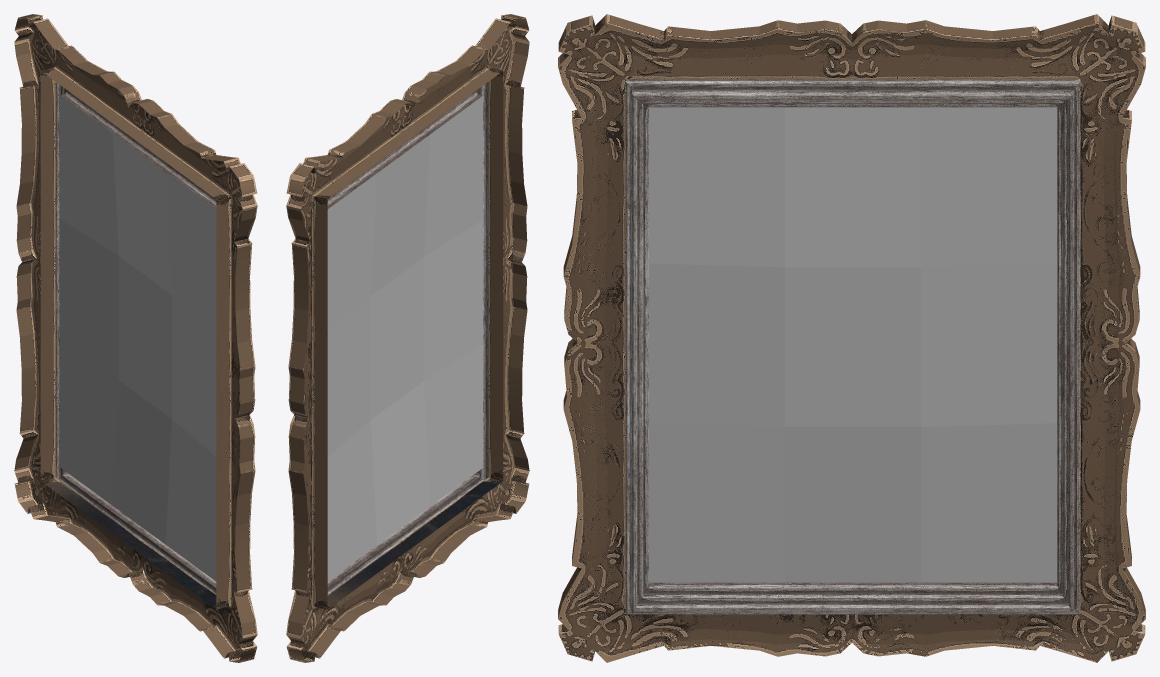
Rendered from PictureFence1.fbx.
The picture shows the model from 3 angles, left to right: view 1: azimuth 30°, elevation 25°; view 2: azimuth 150°, elevation 25°; view 3: azimuth 270°, elevation 25°; orthographic projection. The views are drawn at different scales.
Visible parts, largest first — view 1: g PictureFrame; view 2: g PictureFrame; view 3: g PictureFrame.
Boxes of the visible parts, left/top/right/bottom form: g PictureFrame: left=14, top=14, right=257, bottom=662; g PictureFrame: left=286, top=14, right=529, bottom=662; g PictureFrame: left=558, top=14, right=1145, bottom=662.
Bounding box in the file's own units: 0.1164 × 2 × 1.67.
